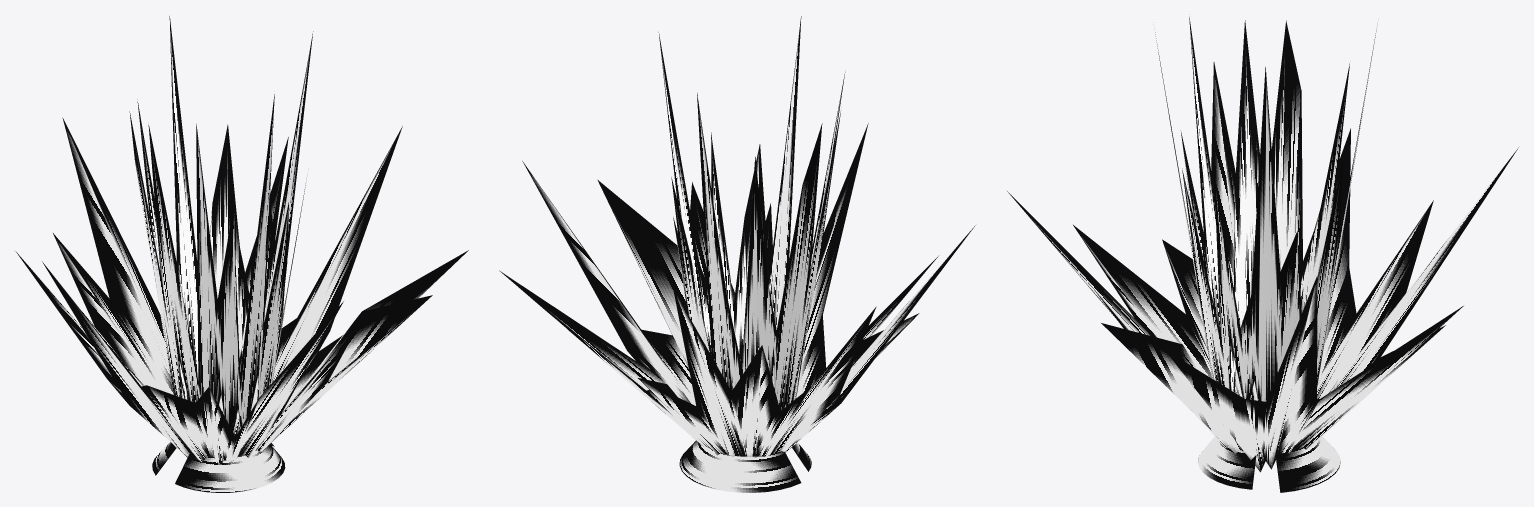
The model's file is EffCommonVerticalSmokeB.obj.
3 views of the same model, side by side, from view 1: azimuth 30°, elevation 25°; view 2: azimuth 150°, elevation 25°; view 3: azimuth 270°, elevation 25° (orthographic). The views are drawn at different scales.
Parts seen in each view (by area): view 1: polygon1, polygon2, polygon0; view 2: polygon1, polygon2, polygon0; view 3: polygon1, polygon2, polygon0.
Part boxes in pixels (<box>): polygon1: <box>15,117,468,464</box>; polygon2: <box>129,16,313,428</box>; polygon0: <box>152,442,285,492</box>; polygon1: <box>499,123,975,456</box>; polygon2: <box>658,16,845,410</box>; polygon0: <box>679,440,811,492</box>; polygon1: <box>1007,62,1518,472</box>; polygon2: <box>1155,17,1376,401</box>; polygon0: <box>1198,436,1340,492</box>.
Bounding box in the file's own units: 32.39 × 31.25 × 32.79.
3 materials, 3 textured.
